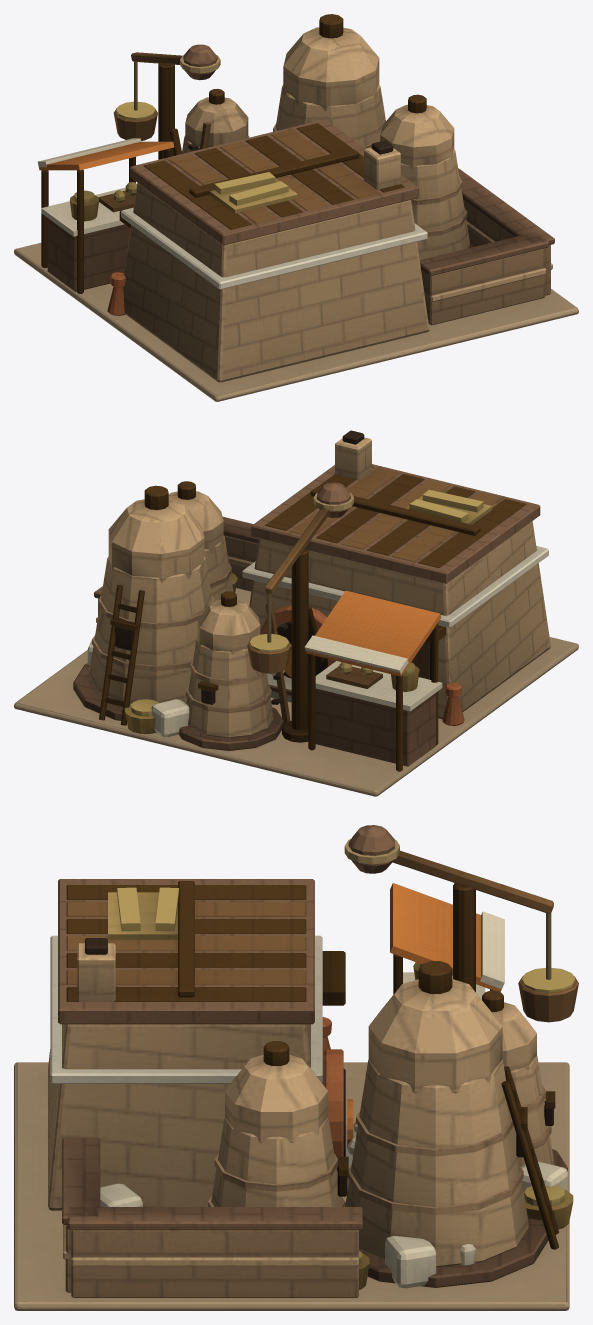
The model's file is ration_house.glb.
3 renders of one model, top to bottom at view 1: azimuth 30°, elevation 25°; view 2: azimuth 150°, elevation 25°; view 3: azimuth 270°, elevation 25°, orthographic. The views are drawn at different scales.
Visible parts, largest first — view 1: ration_house_mud_tan, ration_house_mud_dark, ration_house_dirt_apron, ration_house_wood_dark, ration_house_mud_terra, ration_house_wood_mid, ration_house_stone_pale, ration_house_crop_amber, ration_house_linen_pale, ration_house_cloth_orange, ration_house_thatch_mat, ration_house_pottery (+1 smaller); view 2: ration_house_mud_tan, ration_house_mud_dark, ration_house_wood_dark, ration_house_dirt_apron, ration_house_wood_mid, ration_house_cloth_orange, ration_house_linen_pale, ration_house_mud_terra, ration_house_crop_amber, ration_house_stone_pale, ration_house_pottery, ration_house_door_dark (+2 smaller); view 3: ration_house_mud_tan, ration_house_mud_dark, ration_house_dirt_apron, ration_house_mud_terra, ration_house_wood_dark, ration_house_wood_mid, ration_house_linen_pale, ration_house_stone_pale, ration_house_cloth_orange, ration_house_crop_amber, ration_house_pottery, ration_house_thatch_mat (+3 smaller).
Part boxes in pixels (bbox=[...]): ration_house_mud_tan: bbox=[123, 27, 552, 382]; ration_house_mud_dark: bbox=[47, 44, 554, 291]; ration_house_dirt_apron: bbox=[14, 243, 578, 401]; ration_house_wood_dark: bbox=[41, 14, 426, 293]; ration_house_mud_terra: bbox=[273, 123, 550, 325]; ration_house_wood_mid: bbox=[98, 52, 379, 223]; ration_house_stone_pale: bbox=[121, 207, 427, 289]; ration_house_crop_amber: bbox=[74, 101, 288, 205]; ration_house_linen_pale: bbox=[37, 138, 141, 236]; ration_house_cloth_orange: bbox=[39, 141, 174, 170]; ration_house_thatch_mat: bbox=[209, 178, 298, 213]; ration_house_pottery: bbox=[107, 272, 125, 315]; ration_house_mud_tan: bbox=[88, 437, 550, 737]; ration_house_mud_dark: bbox=[73, 464, 540, 766]; ration_house_wood_dark: bbox=[99, 466, 526, 771]; ration_house_dirt_apron: bbox=[14, 588, 578, 796]; ration_house_wood_mid: bbox=[247, 467, 500, 724]; ration_house_cloth_orange: bbox=[284, 590, 441, 677]; ration_house_linen_pale: bbox=[87, 635, 442, 737]; ration_house_mud_terra: bbox=[92, 535, 271, 712]; ration_house_crop_amber: bbox=[131, 490, 483, 716]; ration_house_stone_pale: bbox=[242, 546, 548, 702]; ration_house_pottery: bbox=[260, 604, 464, 725]; ration_house_door_dark: bbox=[115, 430, 438, 704]; ration_house_mud_tan: bbox=[48, 943, 554, 1266]; ration_house_mud_dark: bbox=[58, 825, 567, 1287]; ration_house_dirt_apron: bbox=[14, 1062, 569, 1310]; ration_house_mud_terra: bbox=[65, 1084, 551, 1297]; ration_house_wood_dark: bbox=[66, 881, 558, 1249]; ration_house_wood_mid: bbox=[66, 850, 578, 1022]; ration_house_linen_pale: bbox=[100, 911, 568, 1288]; ration_house_stone_pale: bbox=[50, 935, 356, 1191]; ration_house_cloth_orange: bbox=[347, 883, 501, 1149]; ration_house_crop_amber: bbox=[117, 887, 575, 1264]; ration_house_pottery: bbox=[322, 1017, 343, 1171]; ration_house_thatch_mat: bbox=[108, 892, 177, 939].
Bounding box in the file's own units: 3.02 × 1.84 × 2.95.
Materials: 17 (16 with a texture image).
